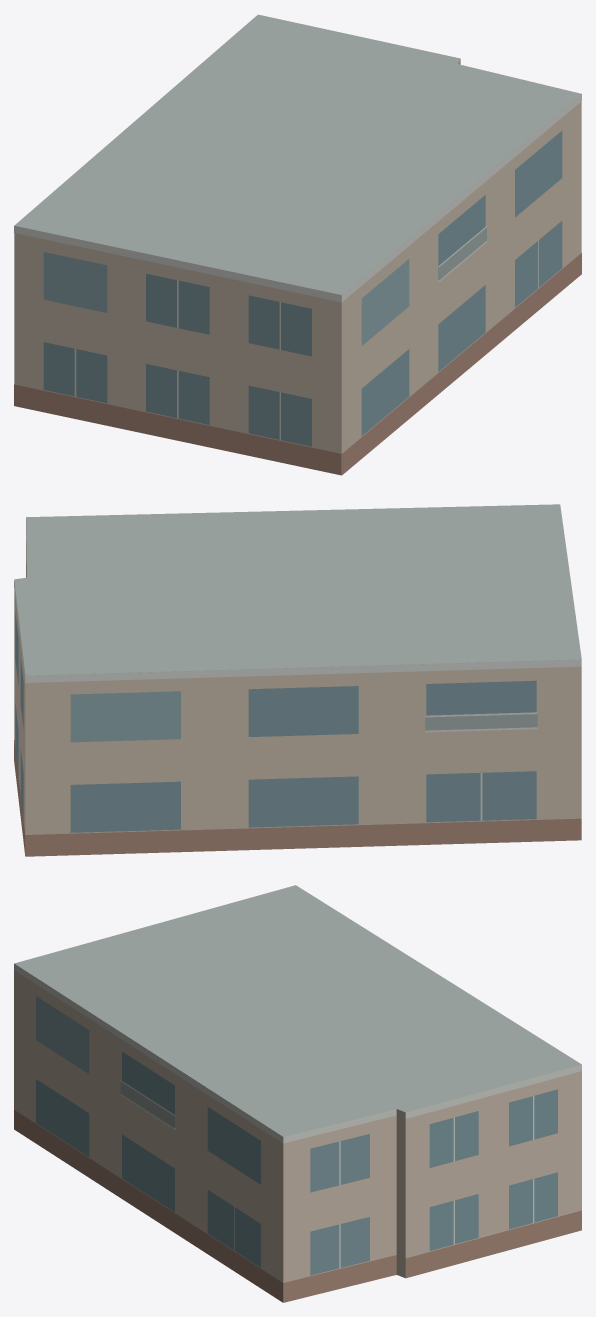
File: survey-upis-32850243.glb
The picture shows the model from 3 angles, top to bottom: view 1: azimuth 30°, elevation 25°; view 2: azimuth 150°, elevation 25°; view 3: azimuth 270°, elevation 25°; orthographic projection. The views are drawn at different scales.
Visible parts, largest first — view 1: survey-upis-32850243.tmp; view 2: survey-upis-32850243.tmp; view 3: survey-upis-32850243.tmp.
Part boxes in pixels (bbox=[...]): survey-upis-32850243.tmp: bbox=[14, 14, 581, 475]; survey-upis-32850243.tmp: bbox=[14, 504, 581, 856]; survey-upis-32850243.tmp: bbox=[14, 885, 581, 1302].
Size of the model in its own units: 19.86 by 6.1 by 18.93.
